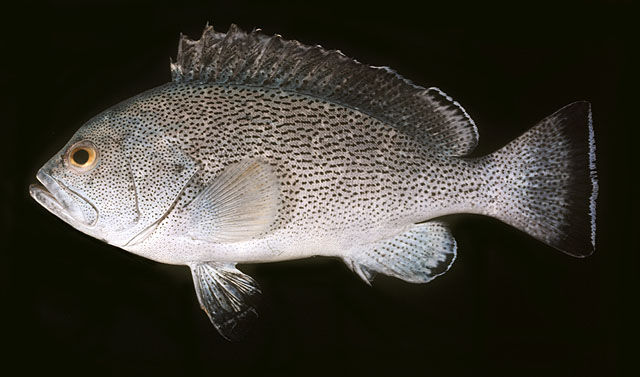fish: (27, 20, 600, 340)
